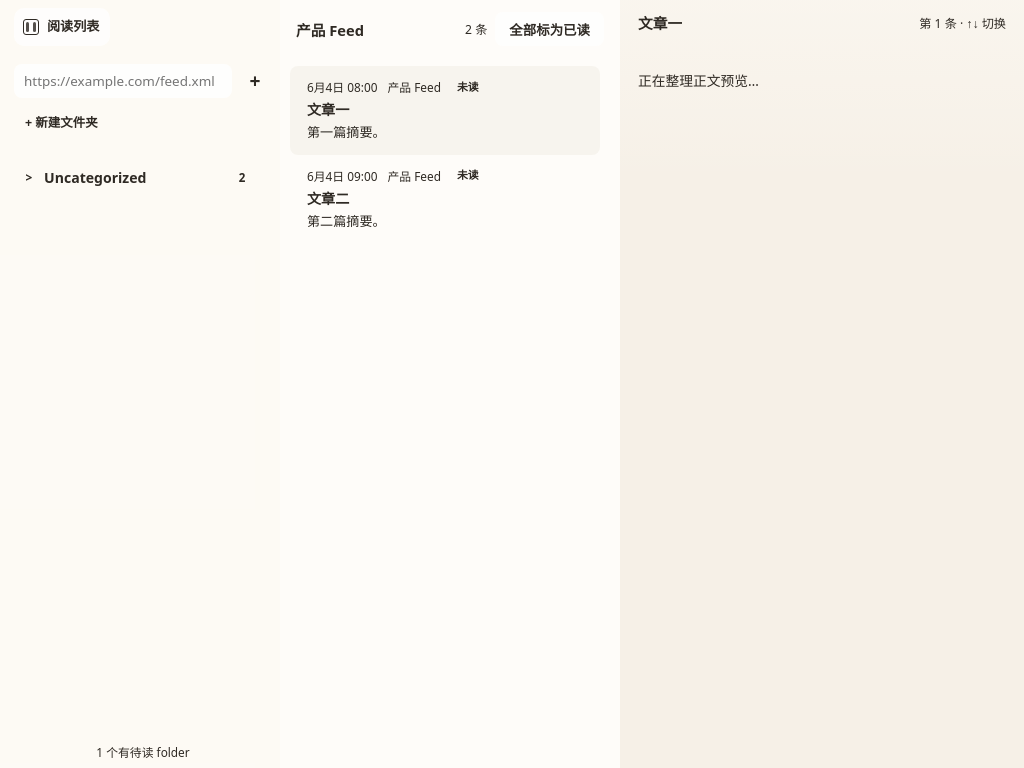
FeedDashboard › marks every current preview item as read from the feed item module
Click the button with aria-label "展开 Uncategorized". click: (138, 178)
box: [14,160,262,196]
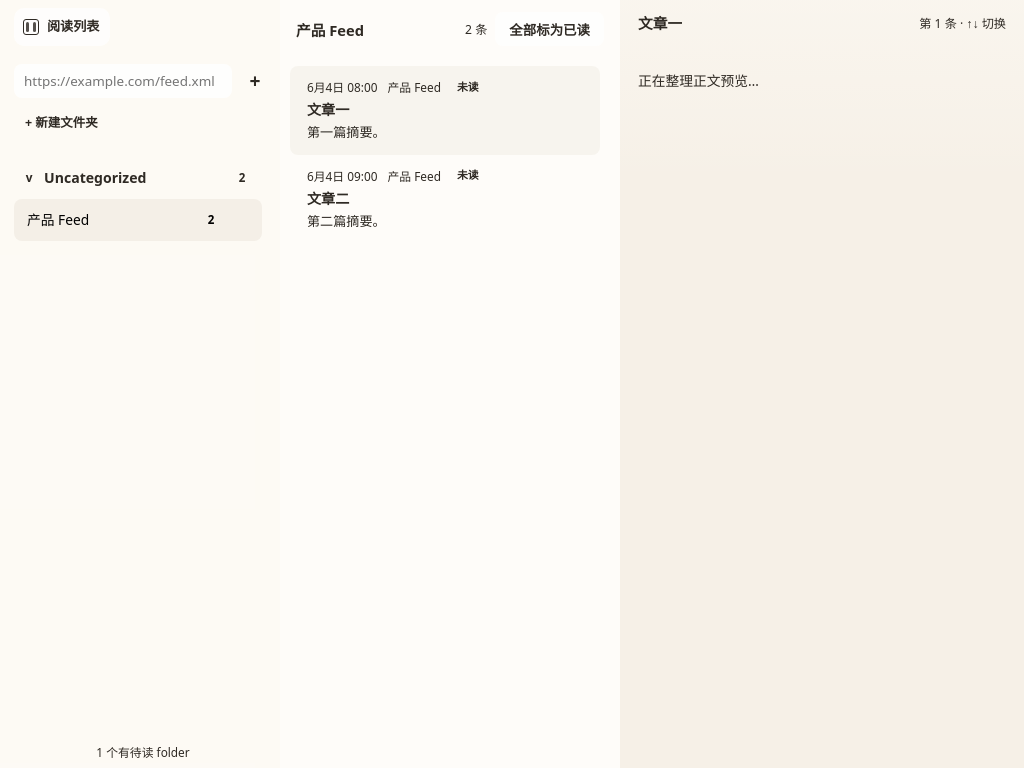
Now the text named "2 条待读" is shown, box [208,212,214,227]
Click the button "全部标为已读". click: (550, 29)
box: [495,12,604,46]
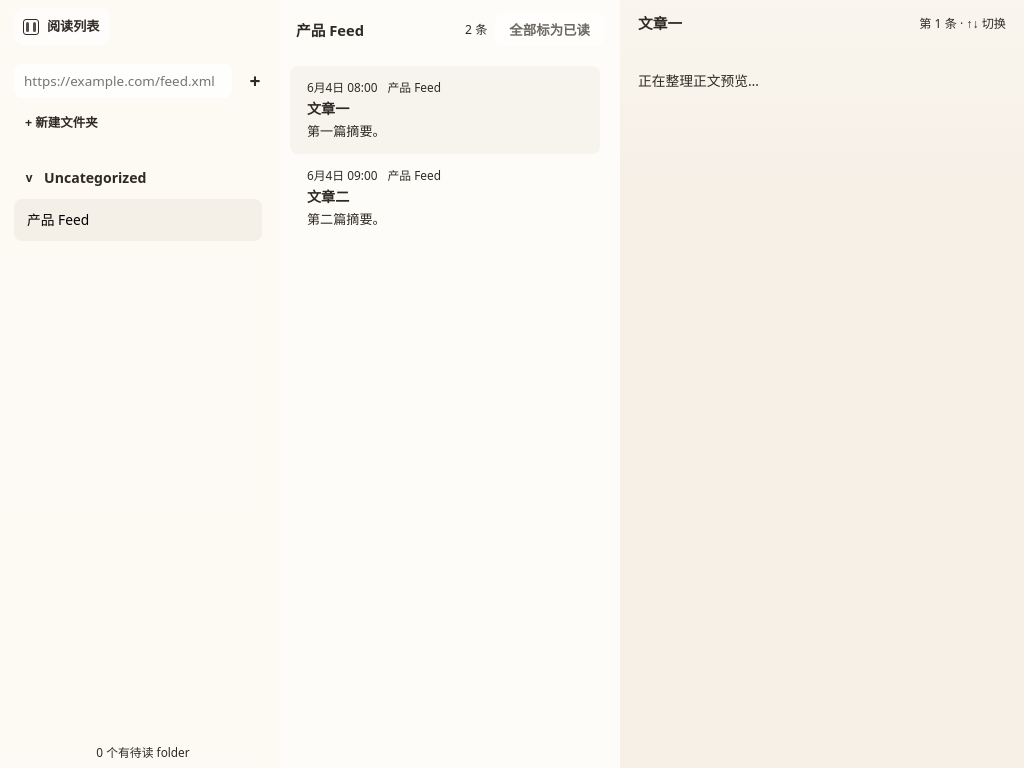
Now the 4th text "产品 Feed" is shown, box [27,211,89,229]
Now the button "全部标为已读" is disabled, box [495,12,604,46]
